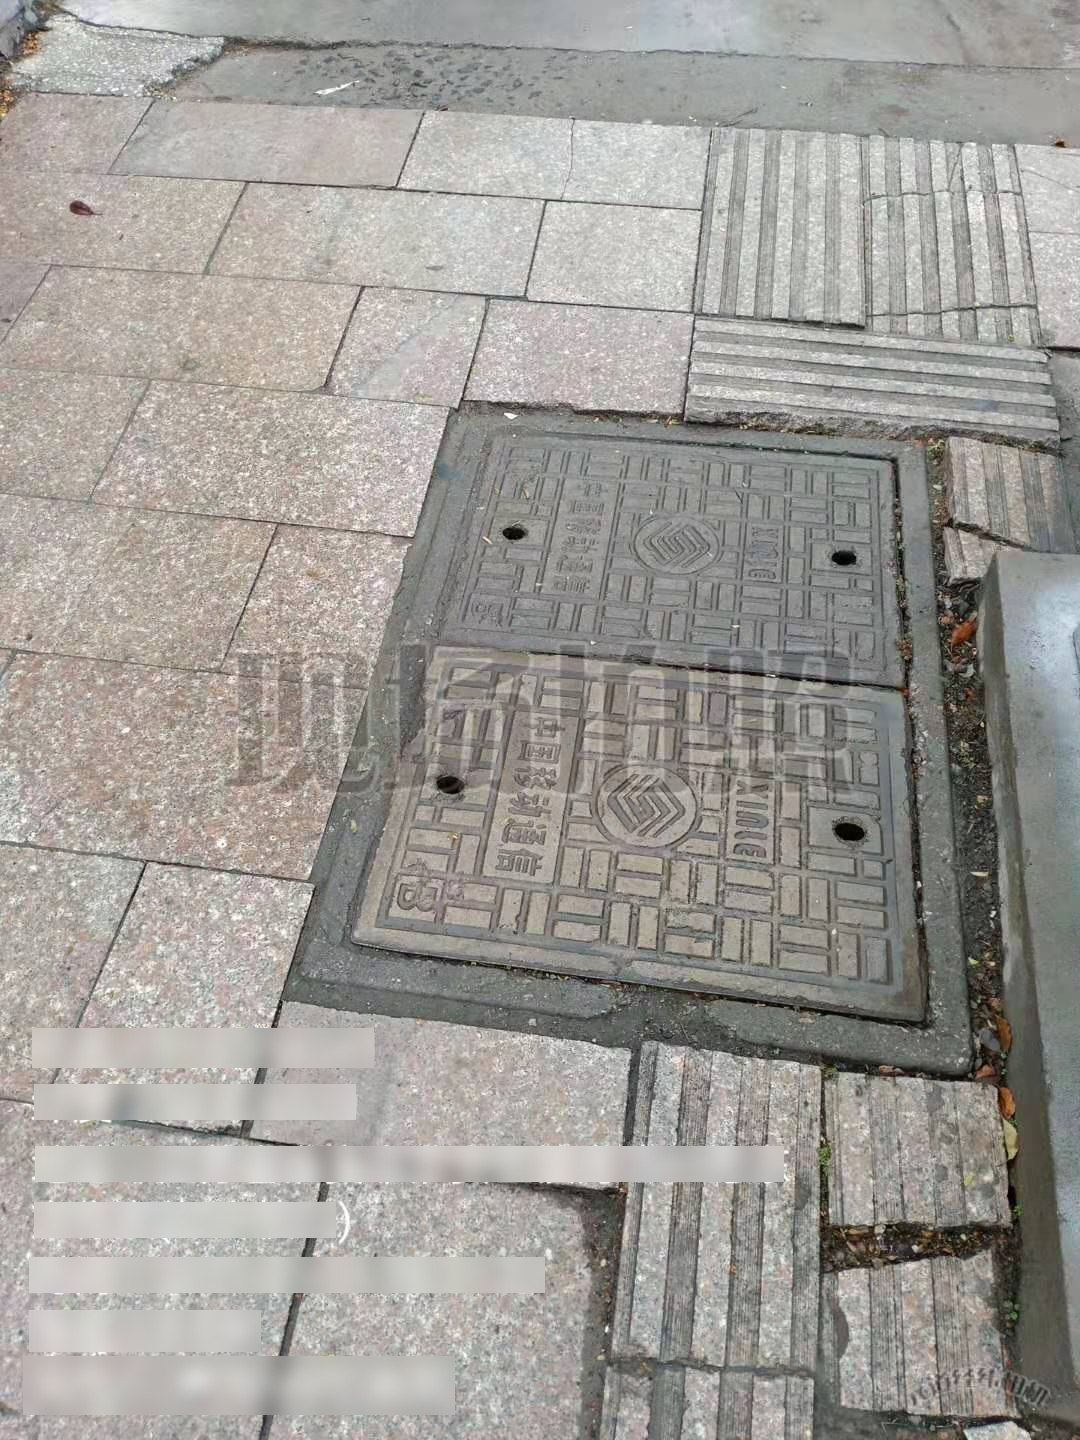good: (297, 401, 974, 1078)
